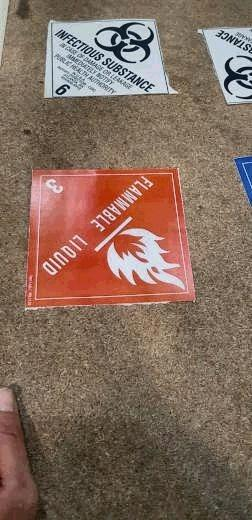flammable: (23, 168, 197, 312)
infectious-substance: (46, 20, 170, 98), (201, 27, 252, 102)
